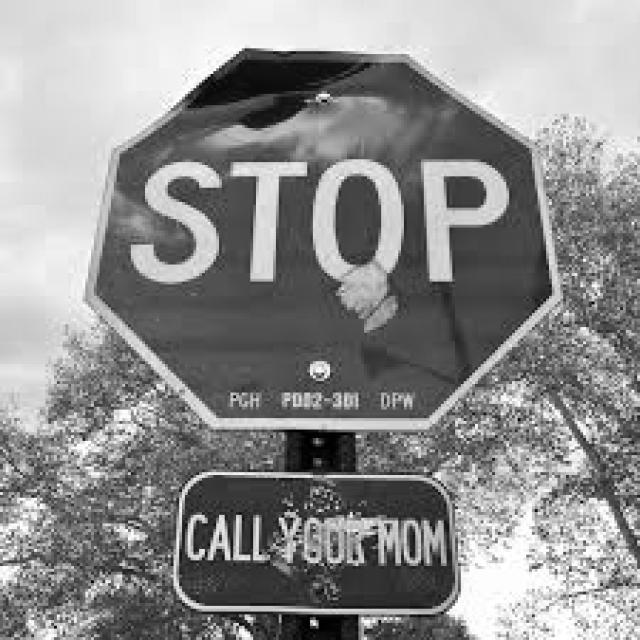stop sign: (78, 34, 572, 622)
